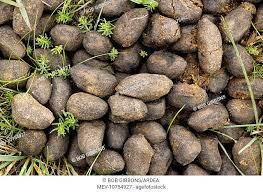Elk: (18, 10, 254, 170)
